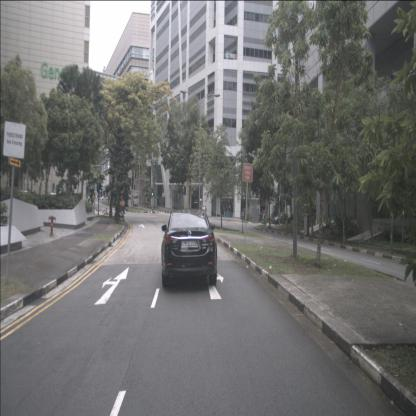human-pedestrian-adult: (262, 210, 266, 226), (205, 205, 207, 217), (202, 204, 204, 216)
vehicle-bicycle: (102, 207, 114, 216)
vehicle-bus-rigid: (131, 194, 140, 207)
vehicle-car: (161, 208, 217, 288), (272, 212, 288, 225)
